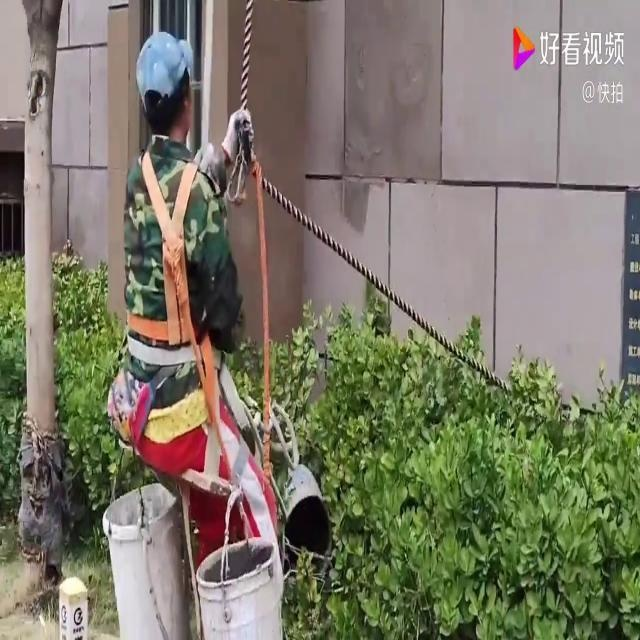Arnes_seguridad: (122, 137, 214, 357)
